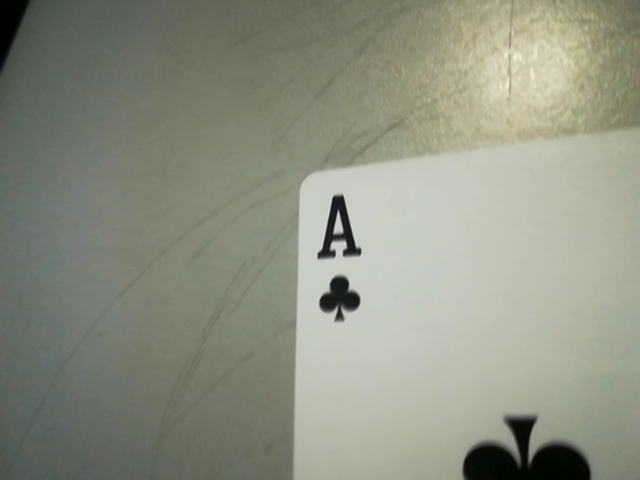mh a: (303, 186, 376, 334)
